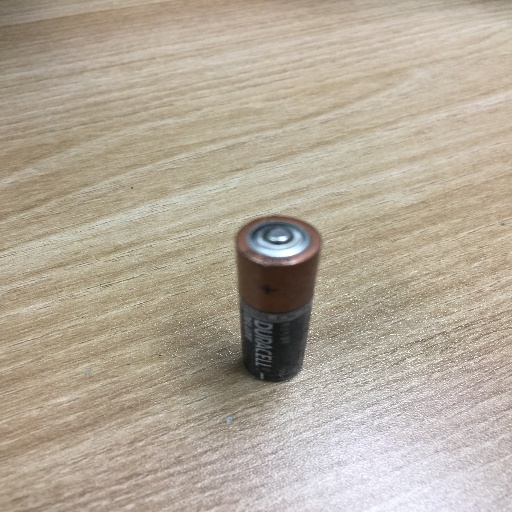Battery_0: (225, 199, 328, 397)
